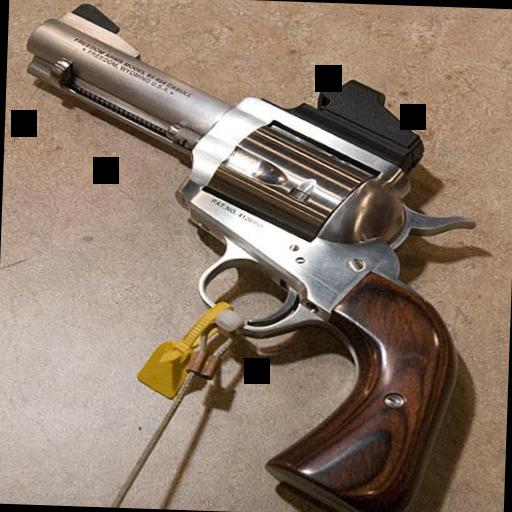Handgun: (0, 6, 491, 512)
